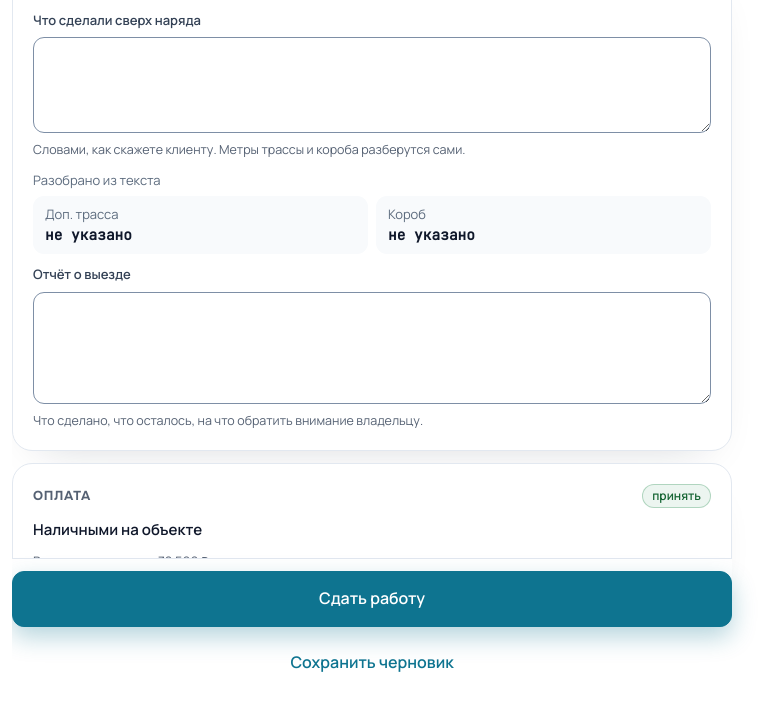
Test: Сдача работы › 🔴 сдача пишет сначала итог, потом статус
(page scrolled)
In the text box labelled "Отчёт о выезде": (372, 348) 33,292 -> 711,404, type "Блок повешен"
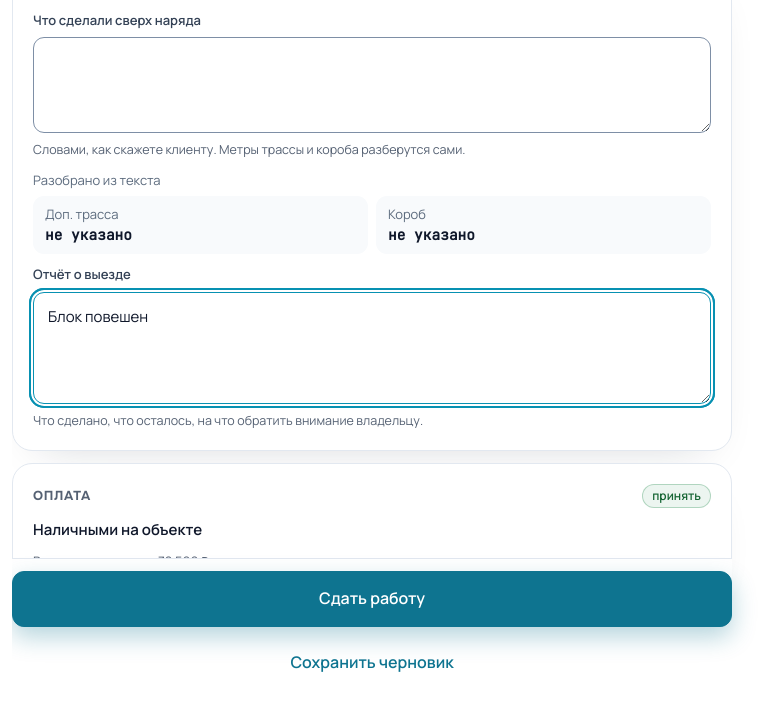
Click the button "Сдать работу": click(372, 599) 12,571 -> 732,627
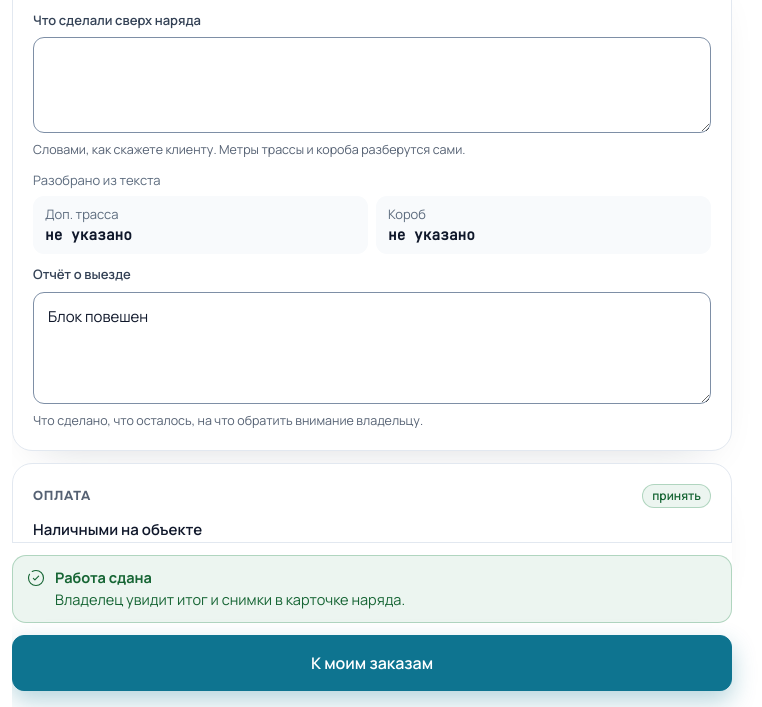
Result: the text "Работа сдана" is shown at 55,567 -> 152,586
